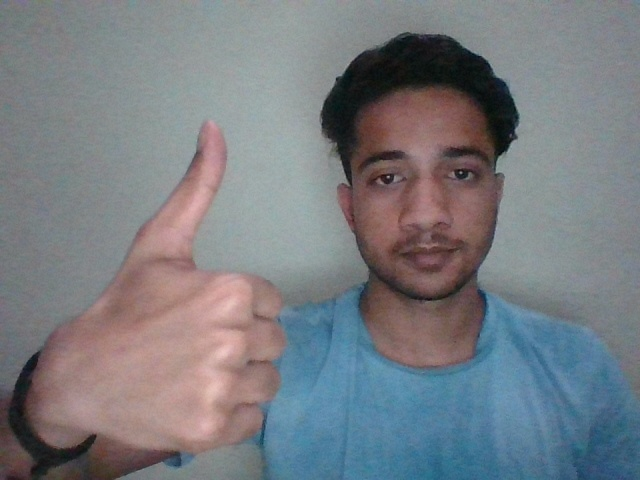thumbsup: (75, 115, 286, 449)
